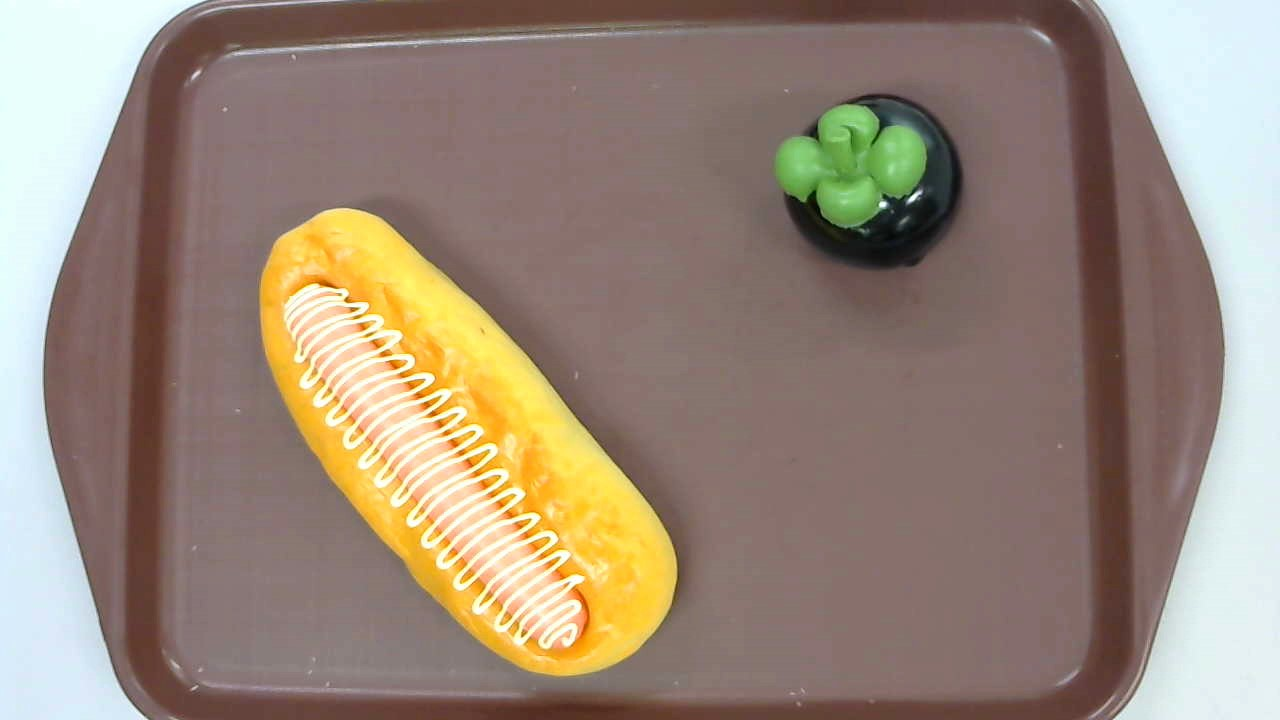hot dog: (258, 207, 677, 677)
mangosteen: (774, 94, 964, 271)
